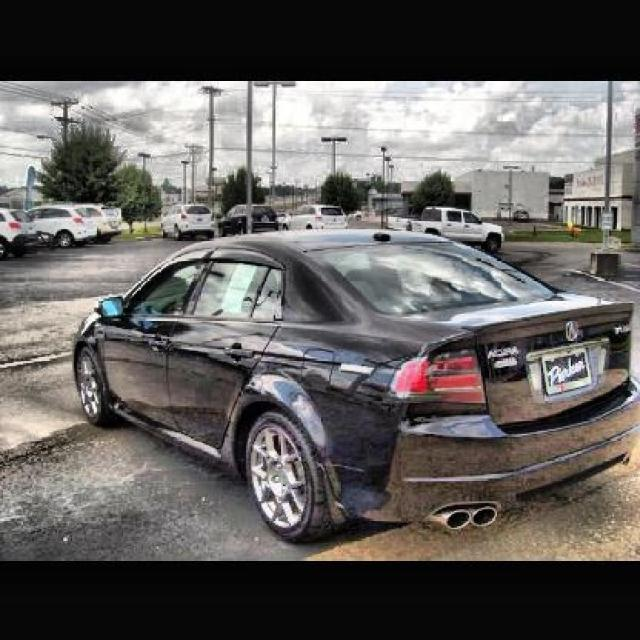black: (67, 225, 640, 530)
